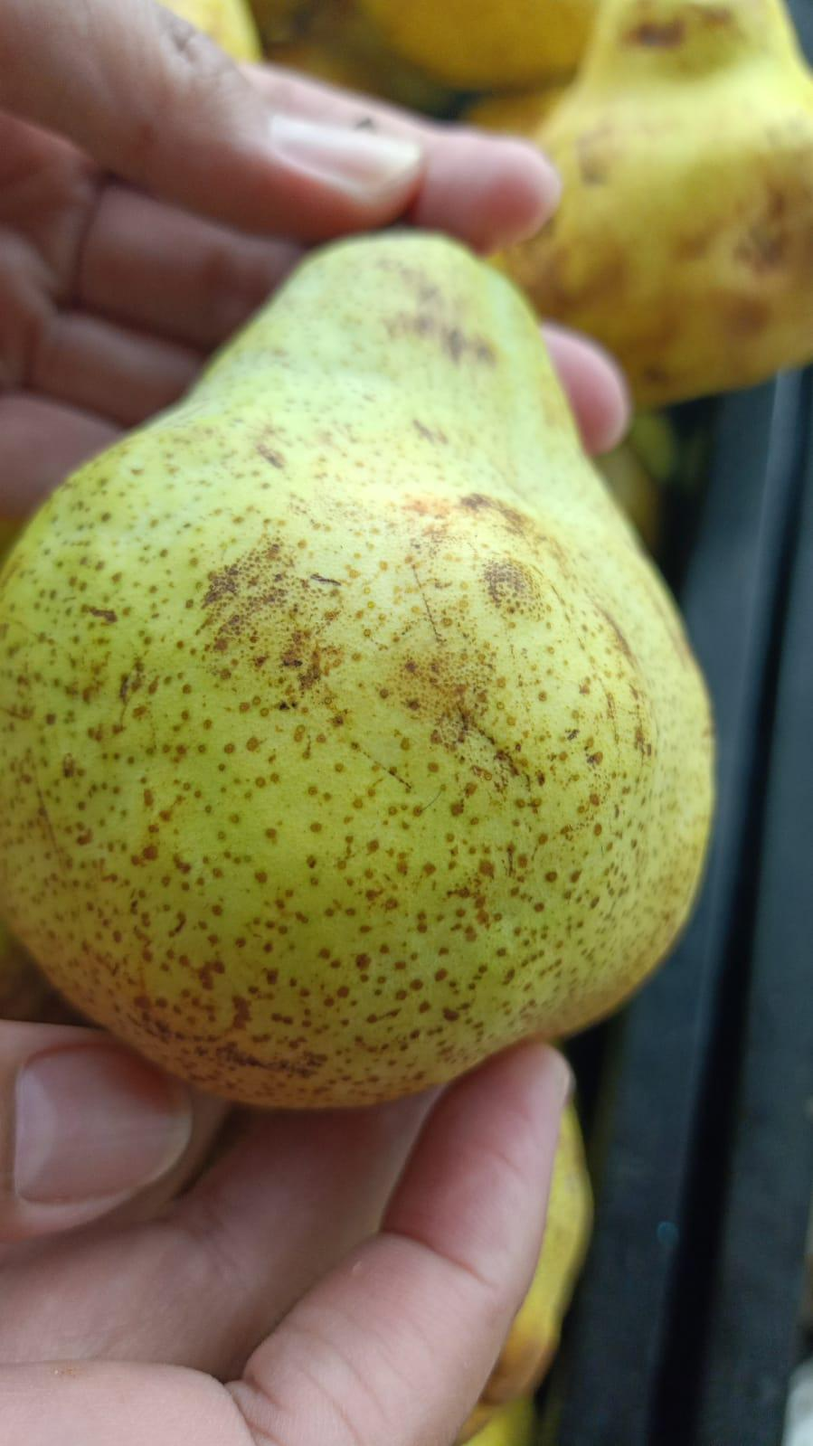Pear Unripe: (112, 181, 604, 1108)
